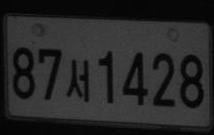1: (94, 50, 120, 104)
2: (151, 51, 176, 107)
4: (121, 51, 149, 106)
7: (37, 47, 62, 100)
8: (179, 52, 205, 110), (11, 45, 35, 100)
서: (65, 59, 90, 102)
